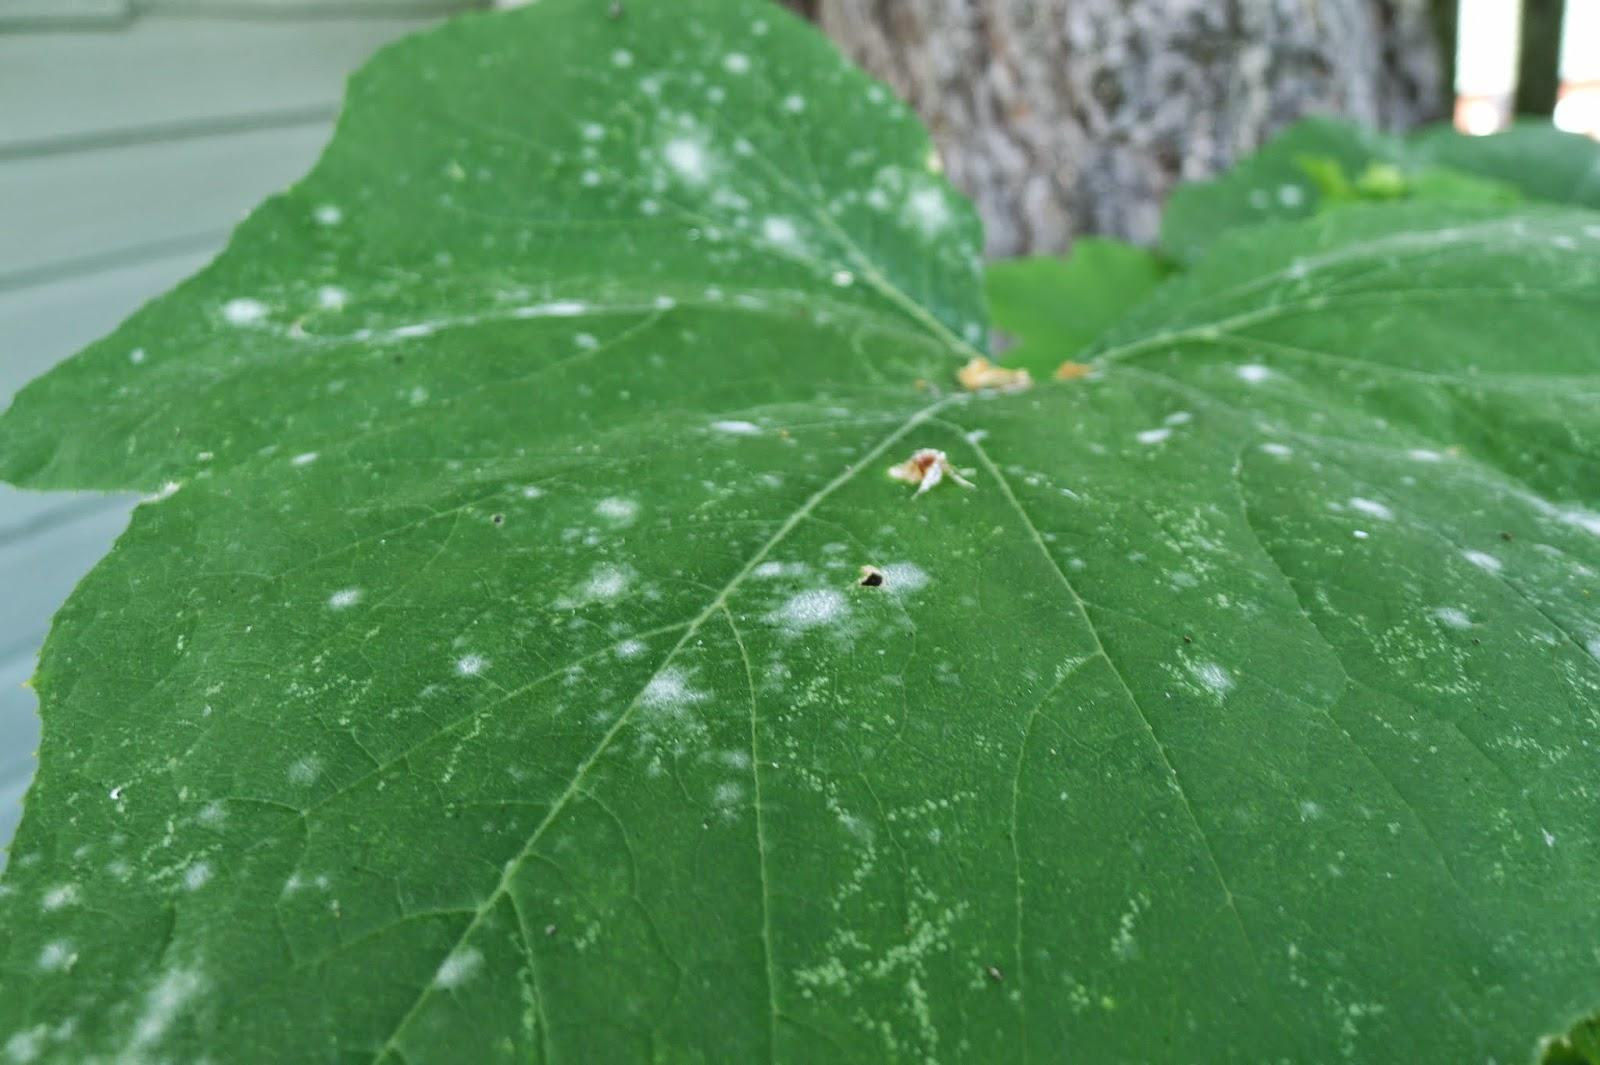Squash Powdery mildew leaf: (1, 19, 1590, 1064)
